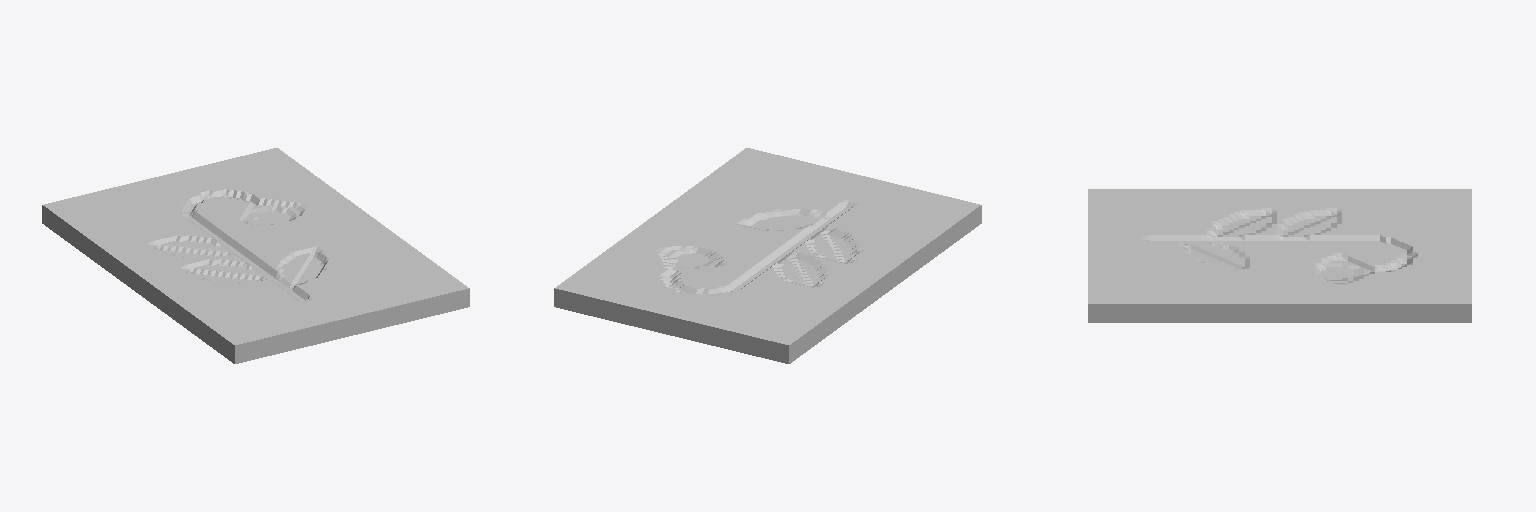
Rendered from snowdrop_2.obj.
3 views of the same model, side by side, from view 1: azimuth 30°, elevation 25°; view 2: azimuth 150°, elevation 25°; view 3: azimuth 270°, elevation 25° (orthographic).
Parts seen in each view (by area): view 1: Low_poly_snowdrop; view 2: Low_poly_snowdrop; view 3: Low_poly_snowdrop.
Boxes of the visible parts, <box> form: Low_poly_snowdrop: <box>42,148,469,363</box>; Low_poly_snowdrop: <box>554,148,981,363</box>; Low_poly_snowdrop: <box>1088,189,1471,322</box>.
Size of the model in its own units: 2.96 by 0.2277 by 4.2.